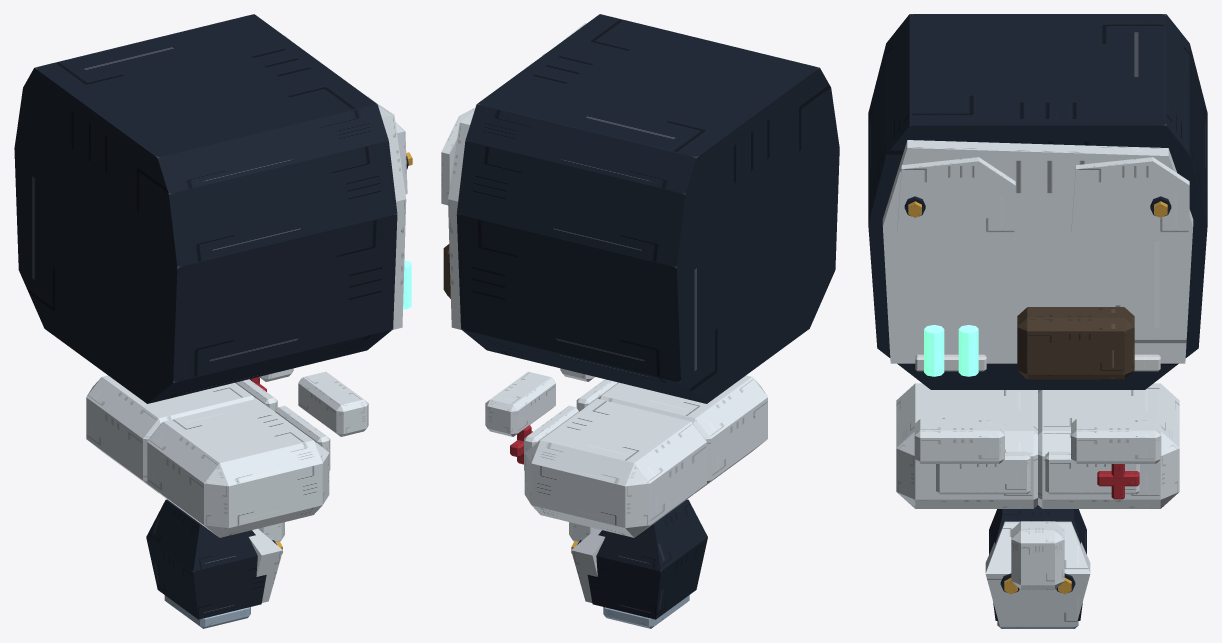
Rendered from medic.glb.
3 renders of one model, left to right at view 1: azimuth 30°, elevation 25°; view 2: azimuth 150°, elevation 25°; view 3: azimuth 270°, elevation 25°, orthographic. The views are drawn at different scales.
Visible parts, largest first — view 1: chest, arm_R, forearm_L, arm_L, hips; view 2: chest, arm_L, forearm_L, arm_R, hips; view 3: chest, arm_L, arm_R, hips, forearm_L.
Boxes of the visible parts, left/top/right/bottom form: chest: left=14, top=14, right=412, bottom=403; arm_R: left=147, top=398, right=330, bottom=537; forearm_L: left=146, top=499, right=282, bottom=628; arm_L: left=86, top=375, right=284, bottom=541; hips: left=259, top=368, right=368, bottom=436; chest: left=441, top=14, right=839, bottom=403; arm_L: left=510, top=398, right=706, bottom=541; forearm_L: left=571, top=499, right=707, bottom=628; arm_R: left=576, top=375, right=767, bottom=492; hips: left=485, top=368, right=594, bottom=436; chest: left=868, top=14, right=1207, bottom=389; arm_L: left=1011, top=383, right=1179, bottom=589; arm_R: left=896, top=383, right=1037, bottom=508; hips: left=914, top=419, right=1161, bottom=463; forearm_L: left=985, top=505, right=1090, bottom=628.
Size of the model in its own units: 0.294 by 0.5405 by 0.304.
8 materials, 8 textured.
